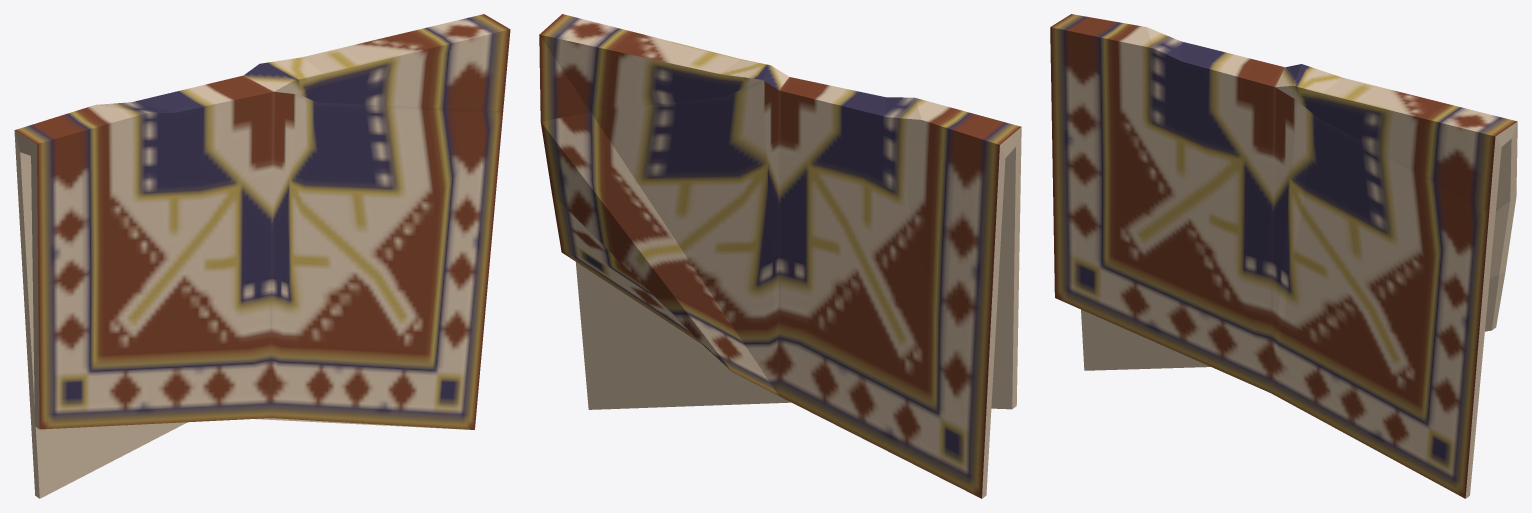
The model's file is SM_Prop_Rug_Hanging_02.fbx.
3 renders of one model, left to right at view 1: azimuth 30°, elevation 25°; view 2: azimuth 150°, elevation 25°; view 3: azimuth 330°, elevation 25°, orthographic. The views are drawn at different scales.
Visible parts, largest first — view 1: SM_Prop_Rug_Hanging_02; view 2: SM_Prop_Rug_Hanging_02; view 3: SM_Prop_Rug_Hanging_02.
Boxes of the visible parts, x1=… form: SM_Prop_Rug_Hanging_02: x1=14, y1=14, x2=510, y2=498; SM_Prop_Rug_Hanging_02: x1=539, y1=14, x2=1021, y2=498; SM_Prop_Rug_Hanging_02: x1=1050, y1=14, x2=1517, y2=498.
Size of the model in its own units: 197 by 159 by 21.17.
